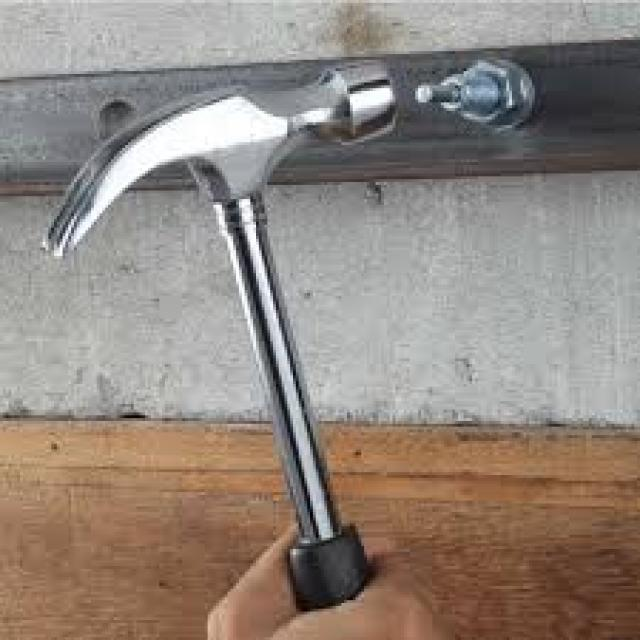hammer: (35, 52, 377, 604)
